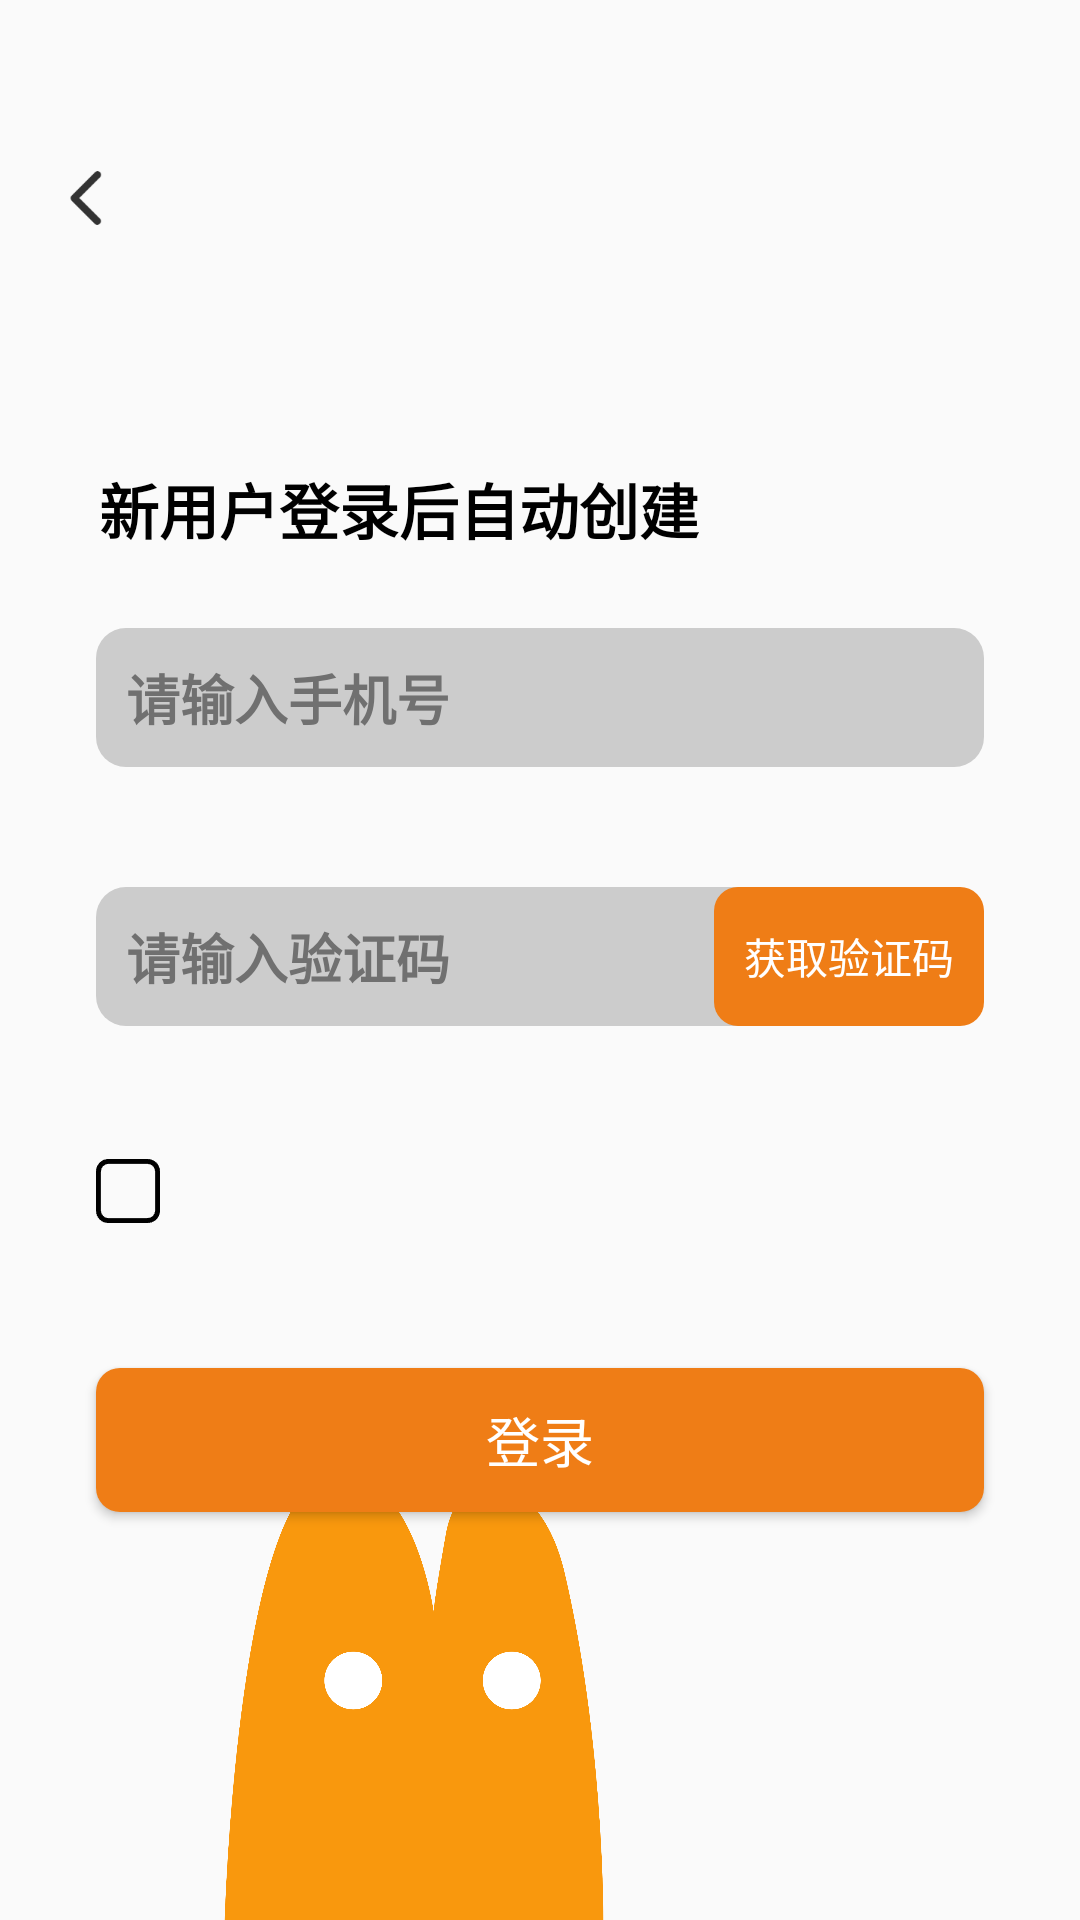

Locate icon controls on the screen. Image size 1080*1920, boxes as (x1, y1, x2, y2).
agree: (96, 1159, 160, 1223)
title back rtl: (70, 171, 102, 225)
